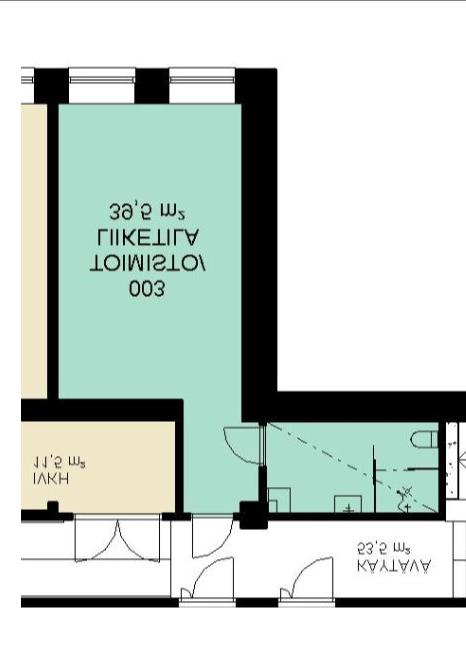bathroom: (268, 422, 440, 513)
door: (189, 552, 236, 612), (290, 554, 339, 608), (186, 507, 235, 560), (118, 509, 166, 562), (70, 512, 120, 562), (222, 423, 270, 466)
perimeter: (19, 67, 439, 607)
window: (61, 61, 140, 109), (164, 60, 241, 106), (16, 64, 39, 107)
